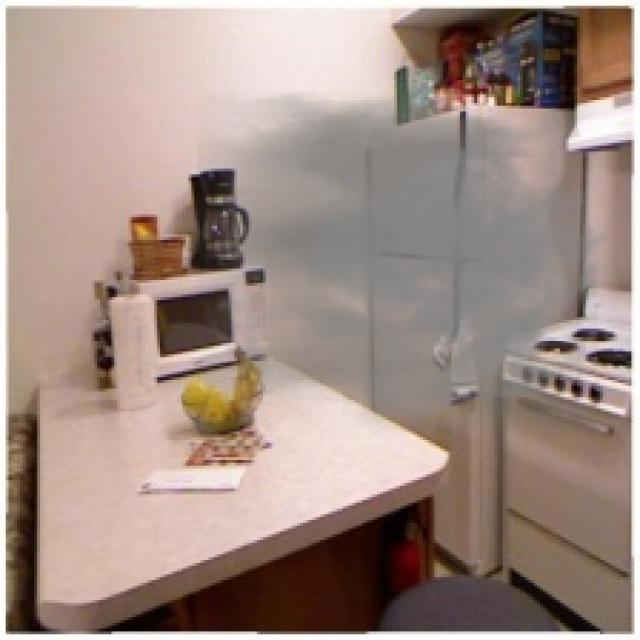Smoke: (197, 92, 612, 434)
